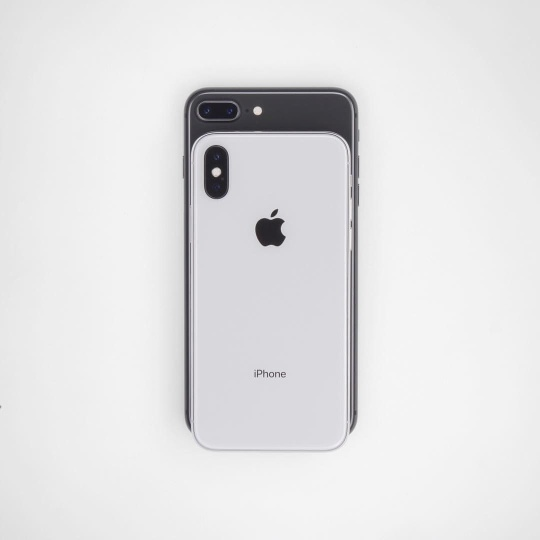apple: (234, 205, 312, 257)
